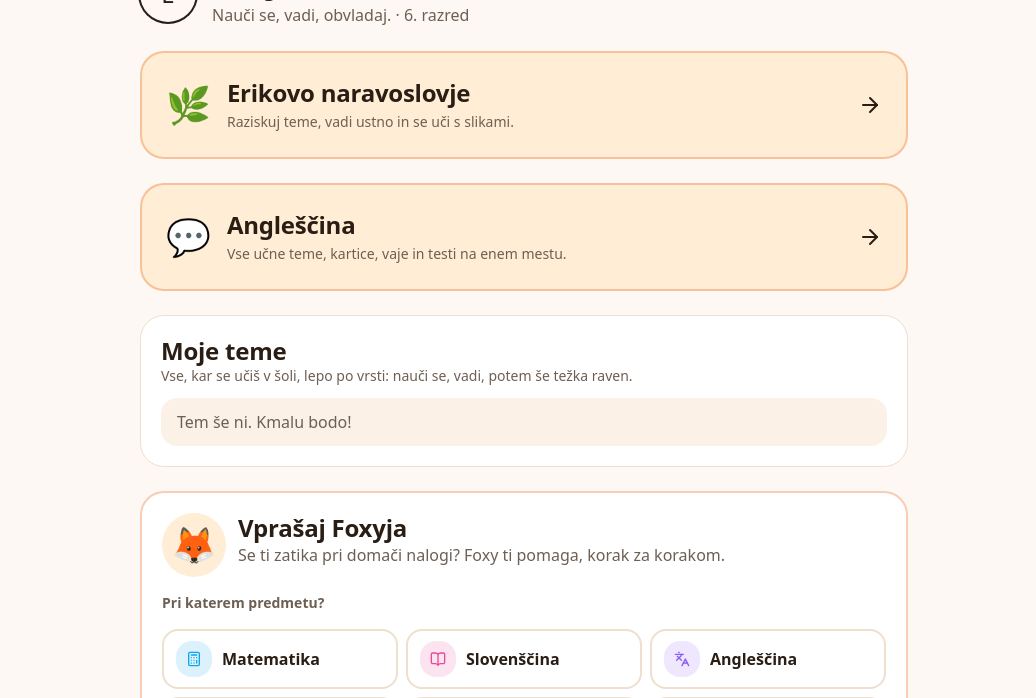
Scenario: English collection › groups English only, keeping science and all originals intact
The image size is (1036, 698).
Expected: the text "People are People" is not shown
Expected: the text "Days, Dates & Hello" is not shown
Click the link "Angleščina".
click(188, 236)  # box [140, 183, 908, 291]
(page scrolled)
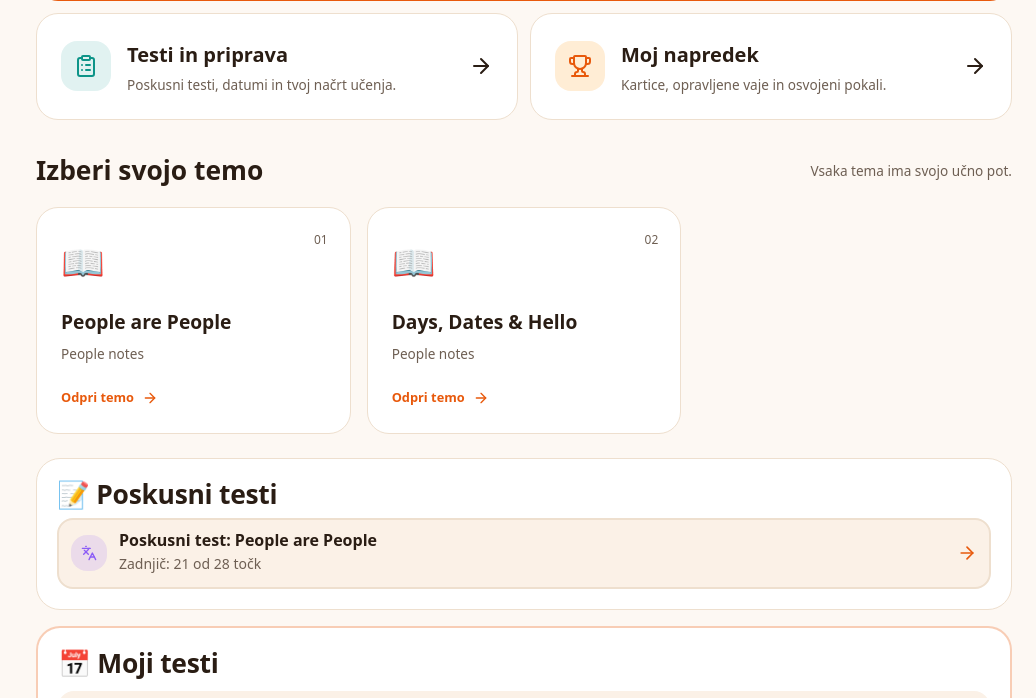
Expected: the text "Poskusni test: People are People" is shown, [119, 529, 377, 551]
Expected: the heading "People are People" is shown, [61, 308, 232, 335]
Expected: the heading "Days, Dates & Hello" is shown, [392, 308, 577, 335]
